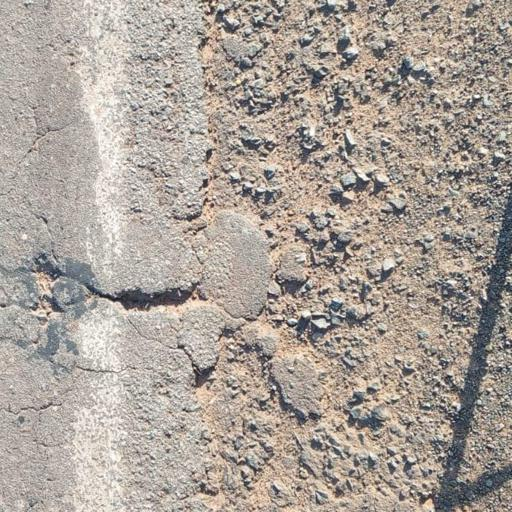GRIETA: (116, 277, 213, 313)
PIEL DE COCODRILO: (0, 96, 112, 459)
